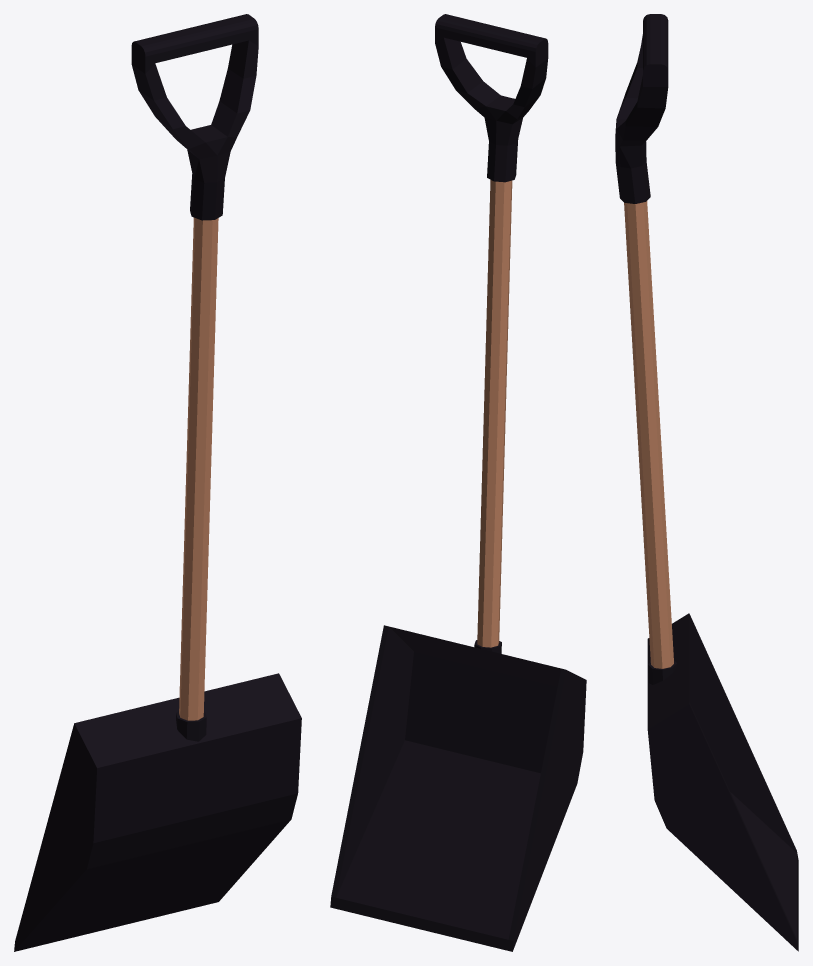
Rendered from Shovel.fbx.
3 views of the same model, side by side, from view 1: azimuth 30°, elevation 25°; view 2: azimuth 150°, elevation 25°; view 3: azimuth 270°, elevation 25° (orthographic). The views are drawn at different scales.
Visible parts, largest first — view 1: Shovel; view 2: Shovel; view 3: Shovel.
Boxes of the visible parts, x1,y1,x2,y2 form: Shovel: [14, 14, 301, 951]; Shovel: [330, 14, 586, 951]; Shovel: [615, 14, 798, 951].
Size of the model in its own units: 200 by 891 by 171.
